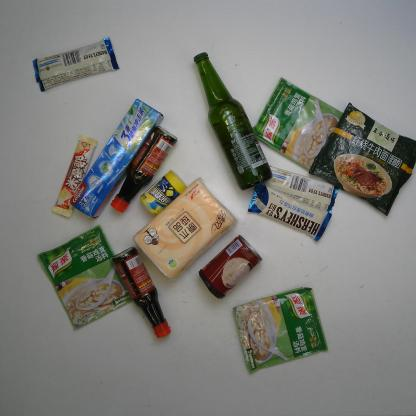Alcohol: (192, 51, 273, 191)
Canned Food: (197, 233, 264, 300)
Chocolate: (31, 33, 119, 95), (248, 184, 332, 240), (50, 133, 99, 220), (259, 163, 339, 212)
Gum: (138, 169, 188, 217)
Instant Noodles: (309, 101, 416, 218)
Personal Hygiene: (68, 98, 164, 221)
Seasoner: (33, 222, 133, 336), (251, 76, 344, 174), (231, 286, 327, 375), (108, 124, 178, 213), (111, 247, 174, 342)
Tissue: (131, 176, 239, 280)
